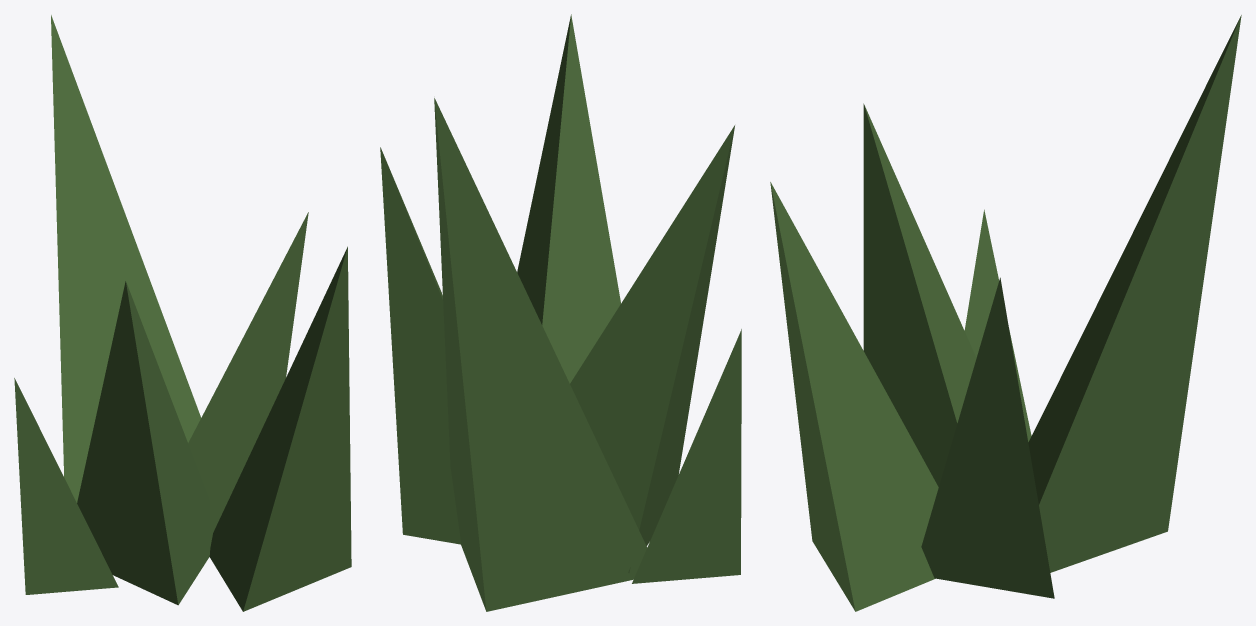
File: grass2.fbx
3 renders of one model, left to right at view 1: azimuth 30°, elevation 25°; view 2: azimuth 150°, elevation 25°; view 3: azimuth 270°, elevation 25°, orthographic. The views are drawn at different scales.
Parts seen in each view (by area): view 1: Cone; view 2: Cone; view 3: Cone.
Part boxes in pixels (x1,y1,x2,y2): Cone: (14, 15, 351, 611); Cone: (380, 14, 741, 611); Cone: (770, 15, 1241, 611).
Size of the model in its own units: 296 by 433 by 352.
